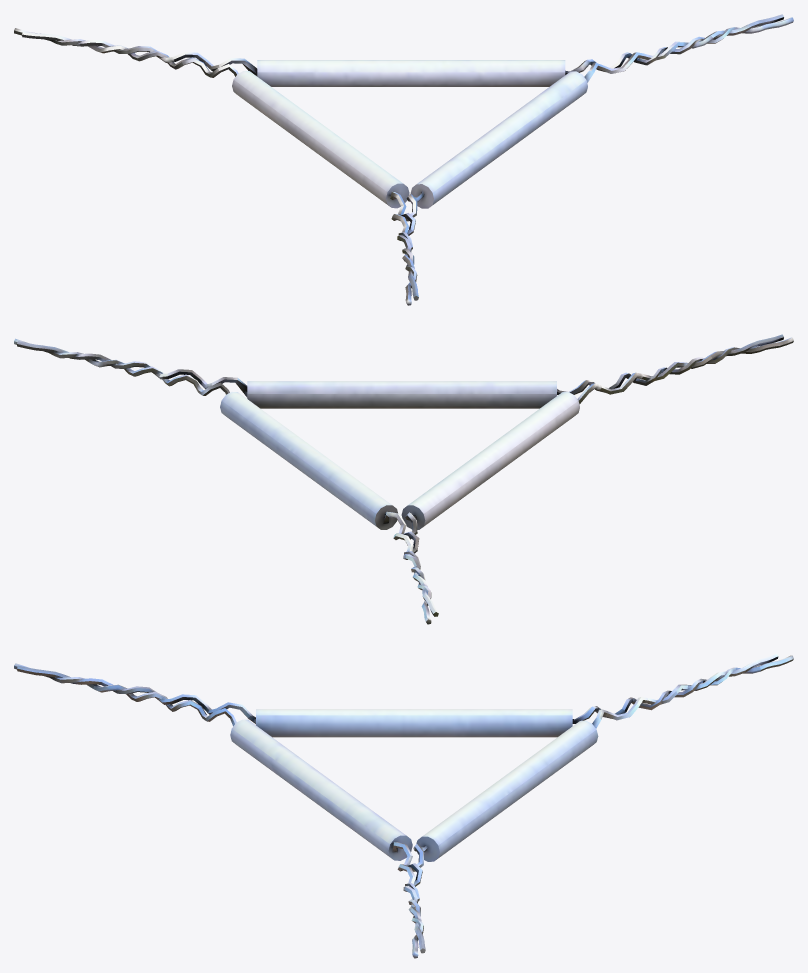
The model's file is tripod_triangle.glb.
3 views of the same model, one above another, from view 1: azimuth 30°, elevation 25°; view 2: azimuth 150°, elevation 25°; view 3: azimuth 270°, elevation 25° (orthographic). The views are drawn at different scales.
Visible parts, largest first — view 1: tripod_triangle; view 2: tripod_triangle; view 3: tripod_triangle.
Part boxes in pixels (x1,y1,x2,y2): tripod_triangle: (14,14,793,305); tripod_triangle: (14,334,793,624); tripod_triangle: (14,653,793,958).
Bounding box in the file's own units: 0.1287 × 0.00547 × 0.1418.
1 material, 1 textured.
